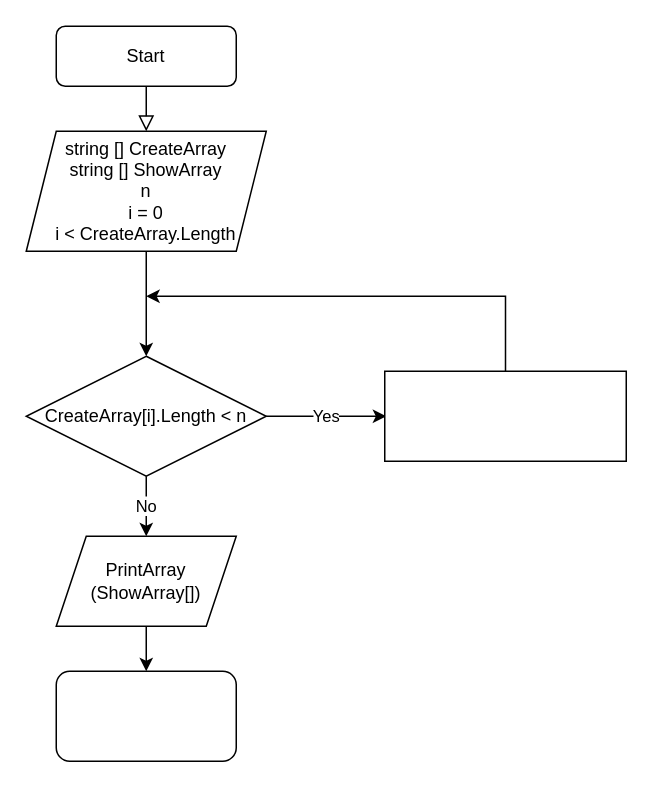
Some shapes in this 653 by 788 pixel diagram are drawn without their labels. The shapes that lost their labels are listed below. From the top down, each one's centre as x and y in pixels, then its label:
At (504,415): "i++ ShowArray[i]=CreateArray[i]".
At (145,715): "Stop".
